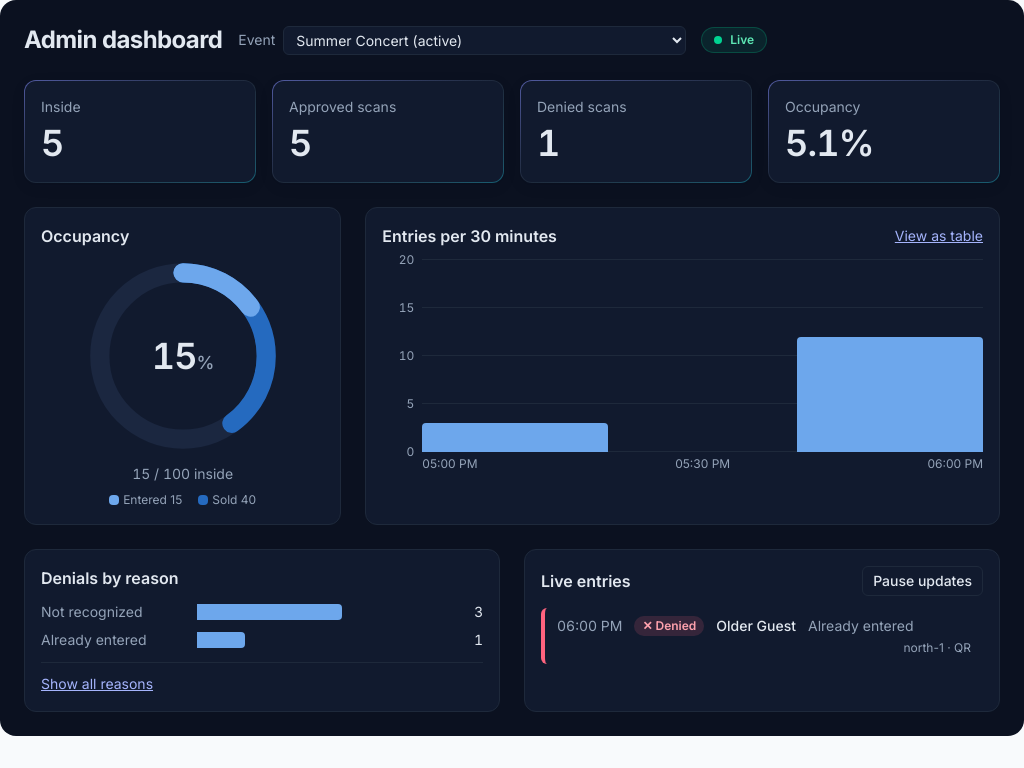
it: dashboard data › a scan pushed while open slides in above the older ones, with its result colour
expect the text "Approved scans" is shown: met, box [289,98,396,115]
Click the button "Show all reasons" at (97, 684), box [41,674,153,694]
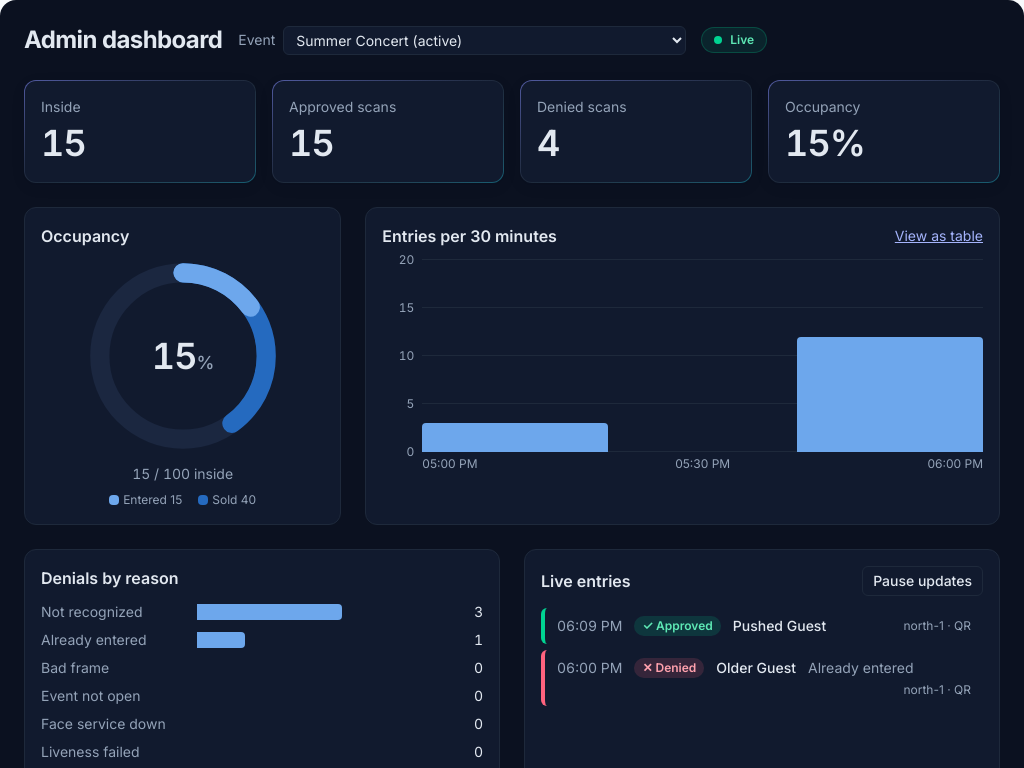
expect the list item "06:09 PM ✓ Approved Pushed Guest north-1 · QR" is shown: met, box [541,608,983,644]
